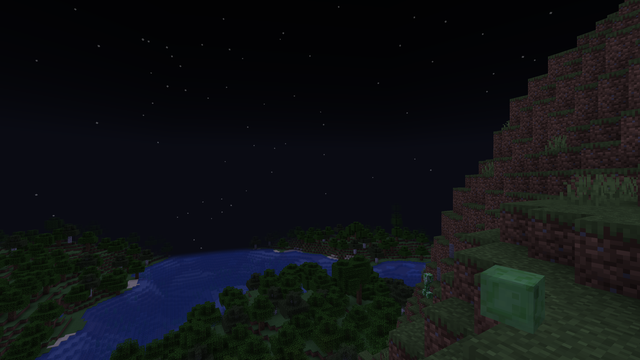creepers: (422, 271, 434, 298)
slimes: (477, 263, 548, 334)
